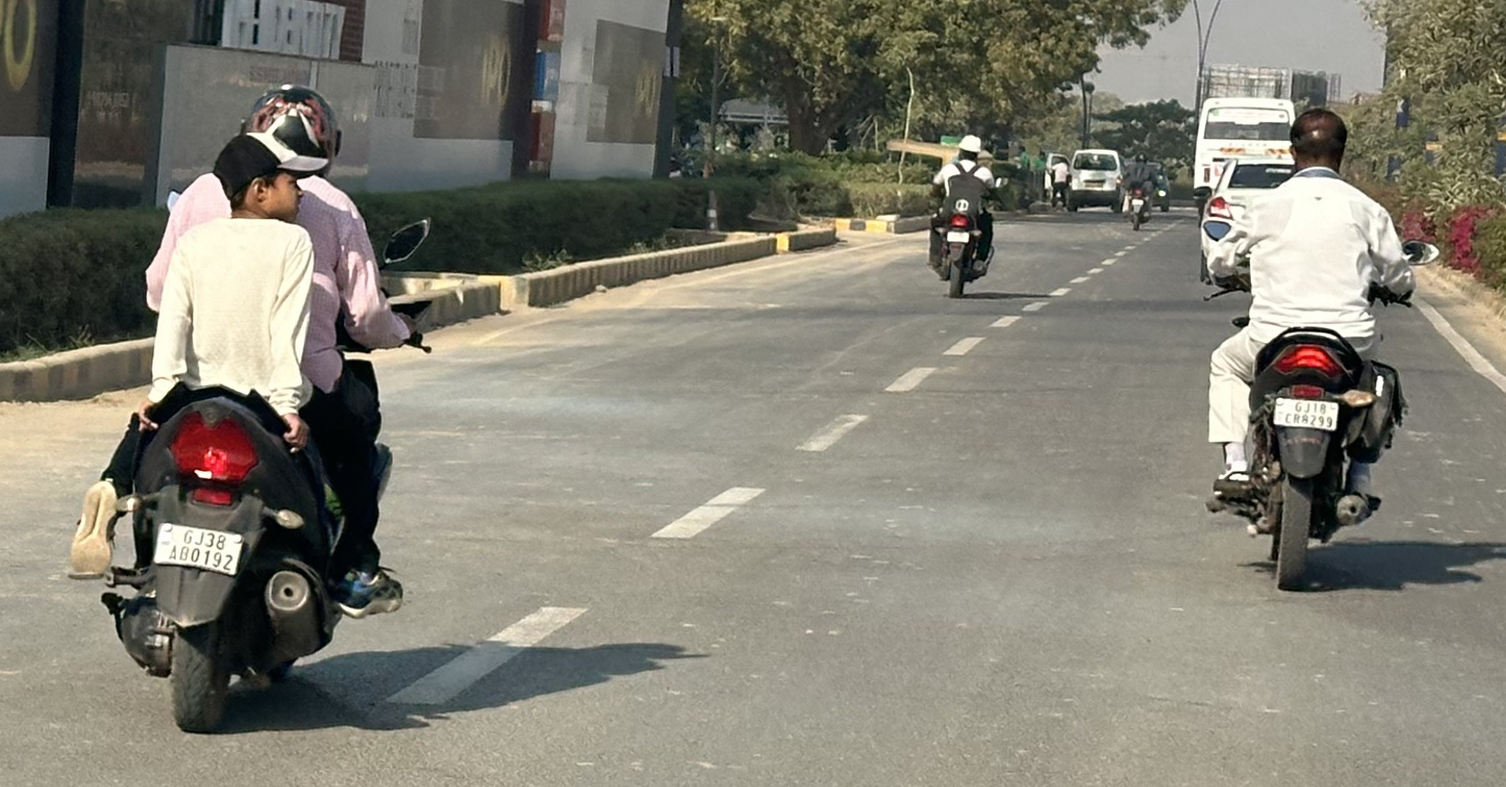BikeWithRider: (60, 74, 446, 741), (1192, 98, 1446, 599), (917, 125, 1011, 303), (1119, 153, 1162, 232)
Helmet: (230, 76, 353, 185), (951, 129, 990, 166)
NoHelmet: (198, 125, 316, 230), (1278, 101, 1362, 182)
